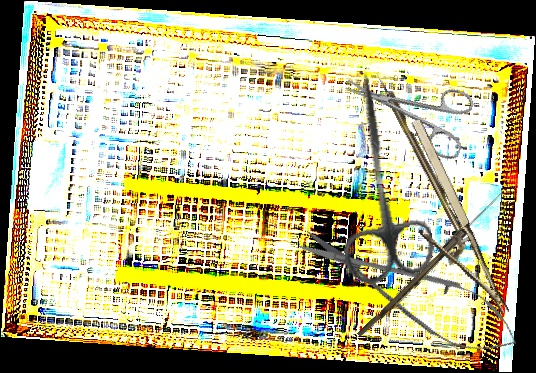Hook Surgical: (374, 69, 465, 237)
Iris Scissors: (317, 65, 438, 288), (334, 50, 482, 163)
Micro Scissor: (289, 212, 530, 370)
Needle Holder: (378, 116, 510, 332)
Surgical Spoon: (357, 187, 506, 341)
